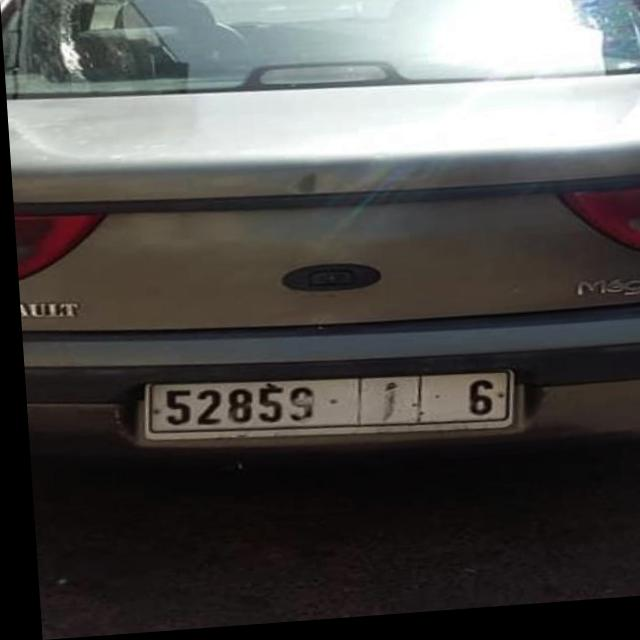License-Plate: (140, 378, 509, 443)
